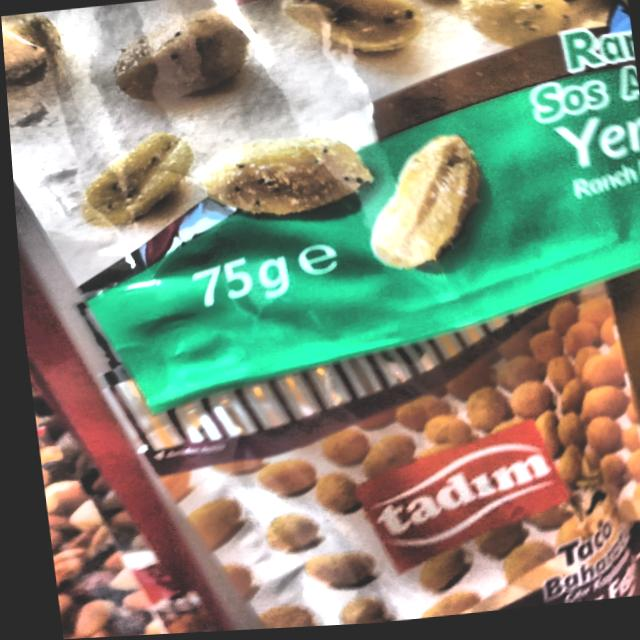Plastic: (1, 0, 640, 422), (104, 278, 640, 632)
